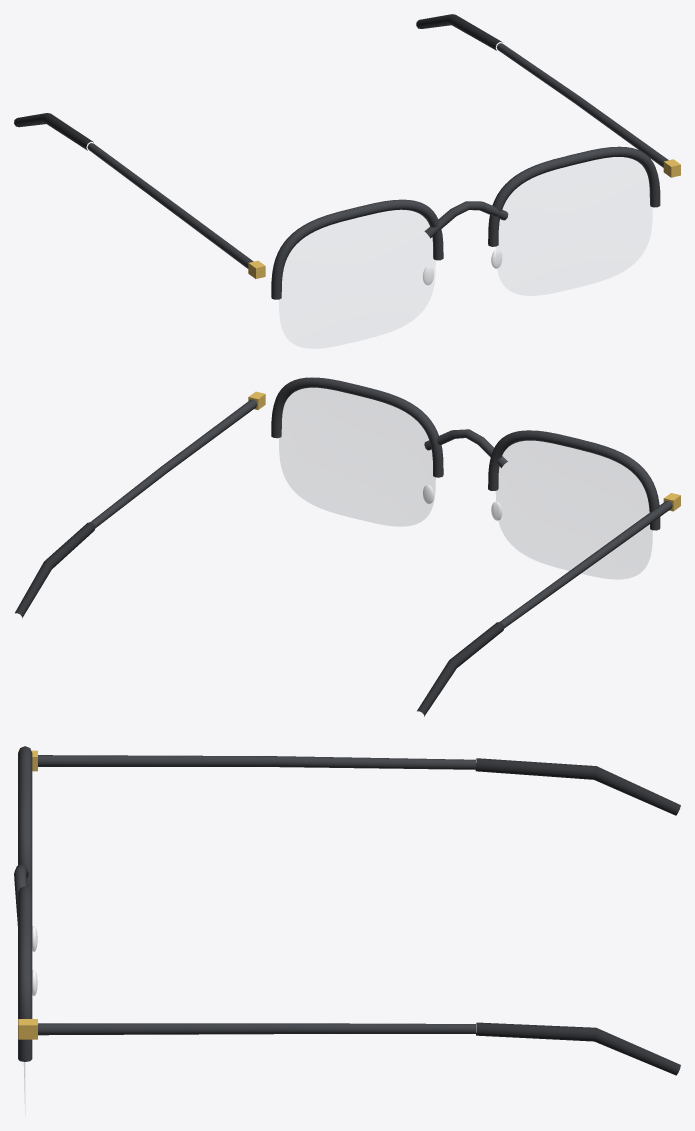
The picture shows the model from 3 angles, top to bottom: view 1: azimuth 30°, elevation 25°; view 2: azimuth 150°, elevation 25°; view 3: azimuth 270°, elevation 25°; orthographic projection. The views are drawn at different scales.
Parts seen in each view (by area): view 1: Lens_L, Lens_R, RimTop_L, RimTop_R, Temple_R, Temple_L, TempleTip_R, TempleTip_L, Bridge; view 2: Lens_R, Lens_L, RimTop_R, RimTop_L, Temple_L, Temple_R, TempleTip_L, TempleTip_R, Bridge; view 3: Temple_L, Temple_R, TempleTip_L, TempleTip_R, RimTop_R, RimTop_L.
Part boxes in pixels (box(x1,y1,x2,y2)): Lens_L: box(279, 210, 435, 348); Lens_R: box(496, 157, 652, 295); RimTop_L: box(271, 199, 443, 299); RimTop_R: box(488, 146, 660, 246); Temple_R: box(496, 43, 668, 167); Temple_L: box(87, 143, 253, 268); TempleTip_R: box(416, 14, 502, 50); TempleTip_L: box(14, 113, 93, 150); Bridge: box(424, 201, 508, 238); Lens_R: box(279, 388, 435, 526); Lens_L: box(496, 441, 652, 579); RimTop_R: box(271, 377, 443, 477); RimTop_L: box(488, 430, 660, 530); Temple_L: box(500, 500, 672, 628); Temple_R: box(91, 399, 257, 527); TempleTip_L: box(417, 622, 504, 716); TempleTip_R: box(15, 522, 95, 618); Bridge: box(424, 429, 507, 467); Temple_L: box(38, 755, 475, 769); Temple_R: box(38, 1023, 475, 1035); TempleTip_L: box(475, 758, 680, 815); TempleTip_R: box(476, 1022, 680, 1075); RimTop_R: box(18, 886, 32, 1061); RimTop_L: box(18, 746, 32, 892).
Bounding box in the file's own units: 2.66 × 0.8016 × 2.73.
